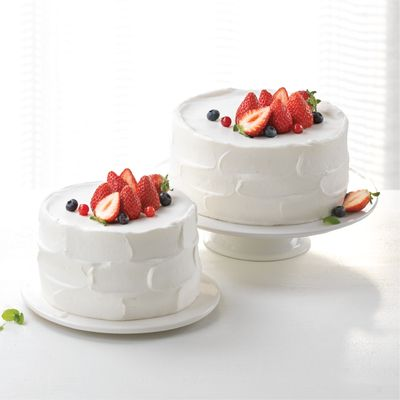sushi: (171, 82, 357, 225), (35, 167, 202, 321)
